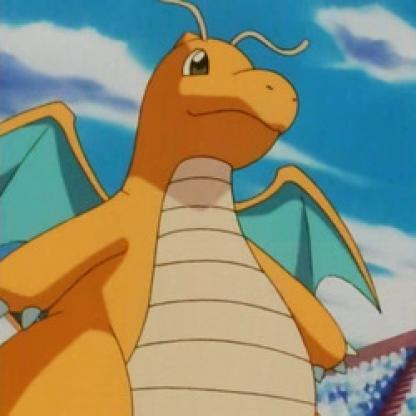Dragonite: (1, 9, 416, 416)
